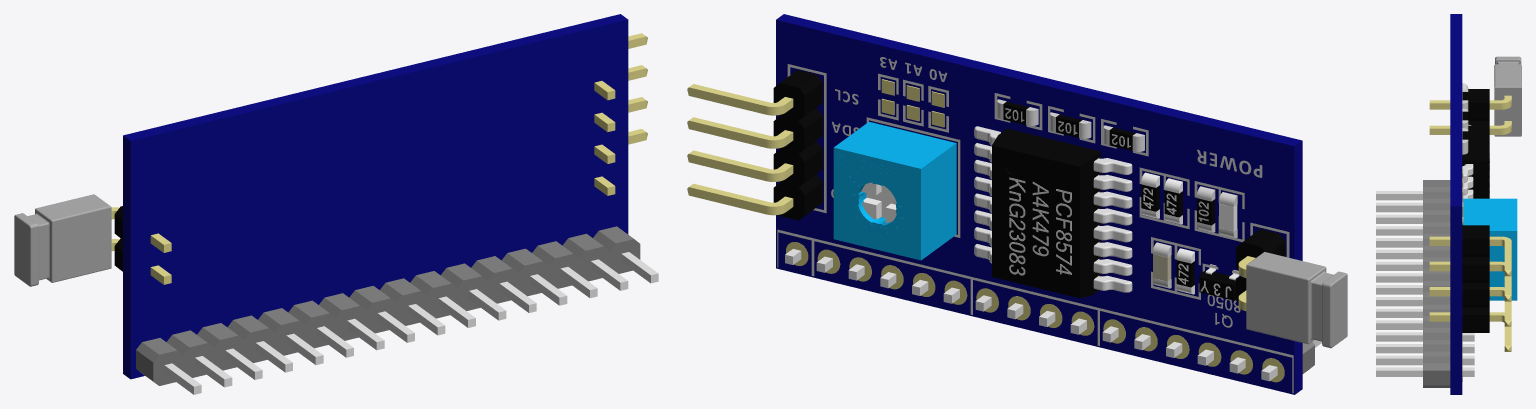
File: lcd_i2c_board.glb
3 views of the same model, side by side, from view 1: azimuth 30°, elevation 25°; view 2: azimuth 150°, elevation 25°; view 3: azimuth 270°, elevation 25° (orthographic). The views are drawn at different scales.
Parts seen in each view (by area): view 1: Node8, Node7, Node2, Node6, Node5; view 2: Node8, Node3, Node4, Node2, Node5, Node6, Node9, Node10, Node1, Node11; view 3: Node2, Node3, Node7, Node8, Node5, Node4, Node6, Node11, Node9.
Boxes of the visible parts, x1,y1,x2,y2 form: Node8: (123,14,628,379); Node7: (136,226,640,385); Node2: (164,252,658,394); Node6: (14,194,111,286); Node5: (111,33,647,284); Node8: (776,14,1302,394); Node3: (773,70,1285,303); Node4: (833,122,956,260); Node2: (777,57,1321,393); Node5: (687,79,1284,382); Node6: (1246,252,1347,348); Node9: (974,126,1132,292); Node10: (861,172,1239,297); Node1: (878,73,1244,327); Node11: (997,99,1237,288); Node2: (1376,153,1489,376); Node3: (1462,89,1489,332); Node7: (1423,180,1450,387); Node8: (1450,14,1462,394); Node5: (1429,95,1511,381); Node4: (1463,198,1517,300); Node6: (1494,56,1521,136); Node11: (1462,83,1468,154); Node9: (1463,124,1473,198).
Bounding box in the file's own units: 52.17 × 19 × 13.29.
